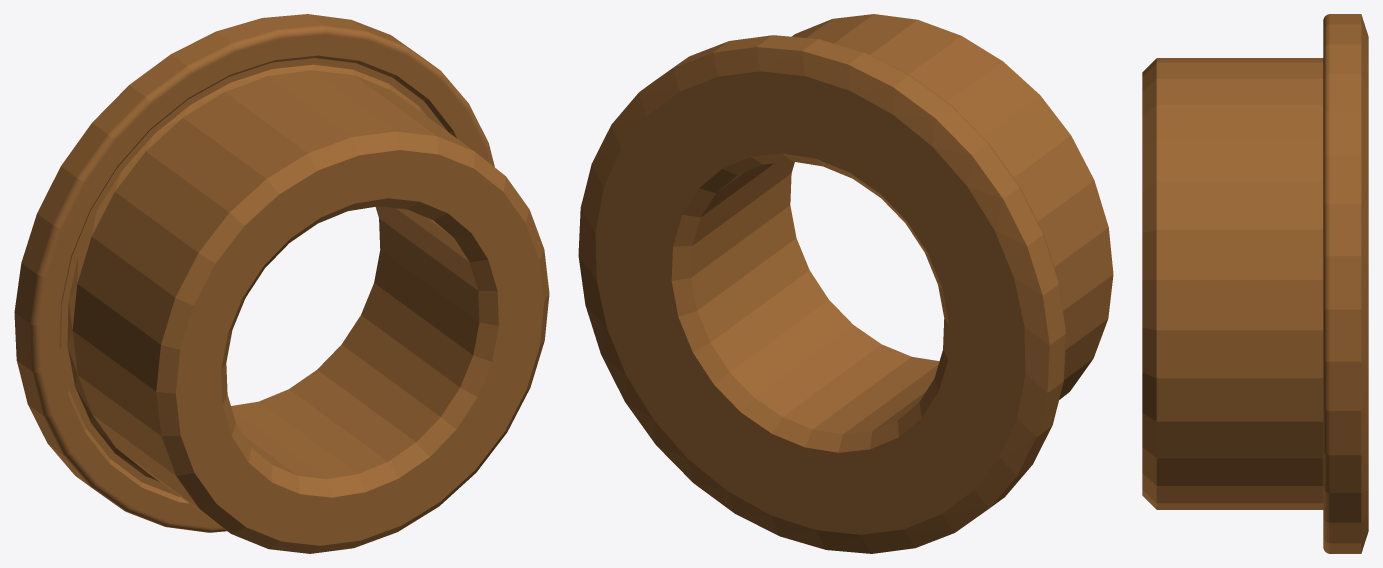
3 renders of one model, left to right at view 1: azimuth 30°, elevation 25°; view 2: azimuth 150°, elevation 25°; view 3: azimuth 270°, elevation 25°, orthographic.
Bounding box in the file's own units: 19.03 × 19.03 × 7.94.
